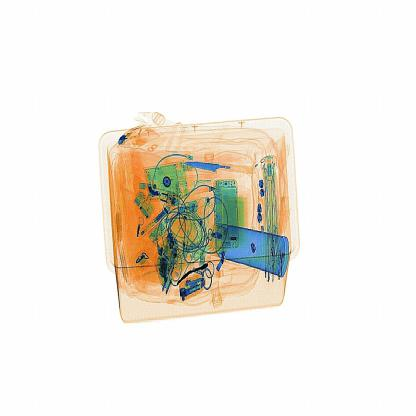wrench: (183, 158, 254, 178)
